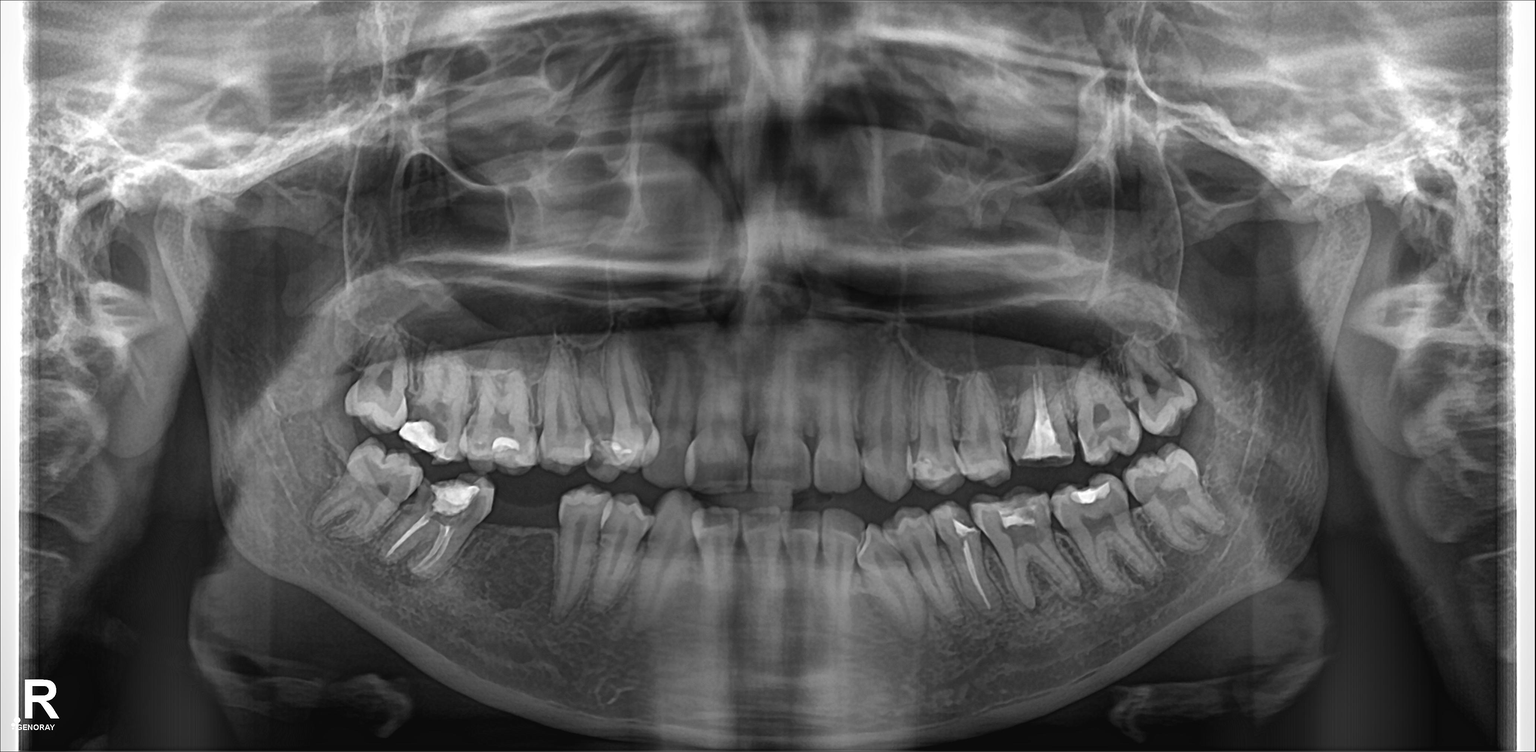Dental Caries: (996, 514, 1041, 550), (410, 395, 451, 434), (1086, 402, 1119, 426)
Endodontically Treated Tooth: (413, 478, 480, 576), (1022, 374, 1062, 471), (939, 508, 976, 608)
Missing Tooth: (486, 493, 556, 597)
